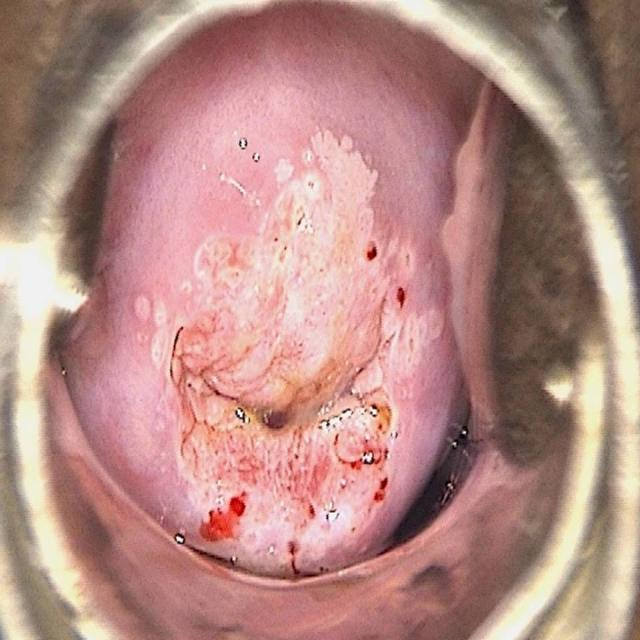cervical_lesion: (171, 133, 433, 556)
